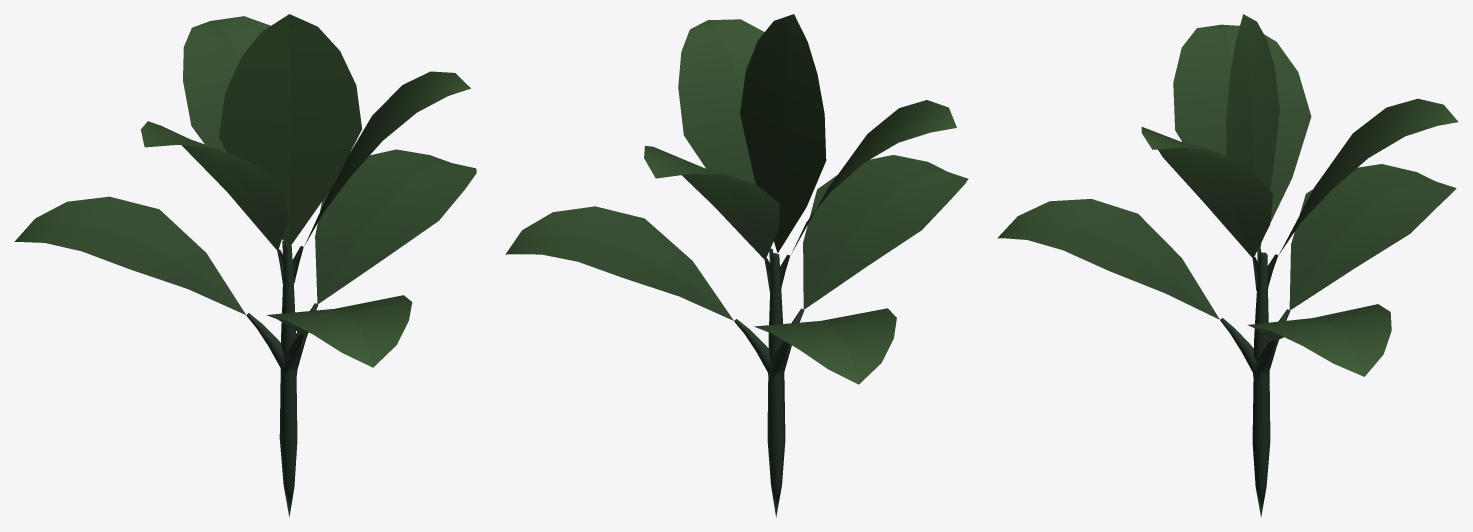
File: plants-leafy-plants-leaf-rosette_v5.glb
The picture shows the model from 3 angles, left to right: view 1: azimuth 30°, elevation 25°; view 2: azimuth 150°, elevation 25°; view 3: azimuth 270°, elevation 25°; orthographic projection. The views are drawn at different scales.
Visible parts, largest first — view 1: Leaf Rosette_v5; view 2: Leaf Rosette_v5; view 3: Leaf Rosette_v5.
Part boxes in pixels (<box>): Leaf Rosette_v5: <box>14,14,476,517</box>; Leaf Rosette_v5: <box>505,14,968,517</box>; Leaf Rosette_v5: <box>997,14,1458,517</box>.
Bounding box in the file's own units: 0.4213 × 0.5 × 0.4185.
